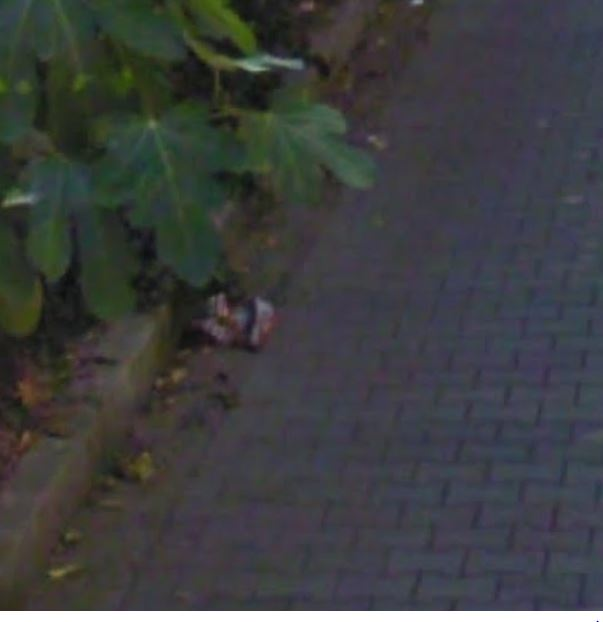trash: (167, 282, 291, 349)
